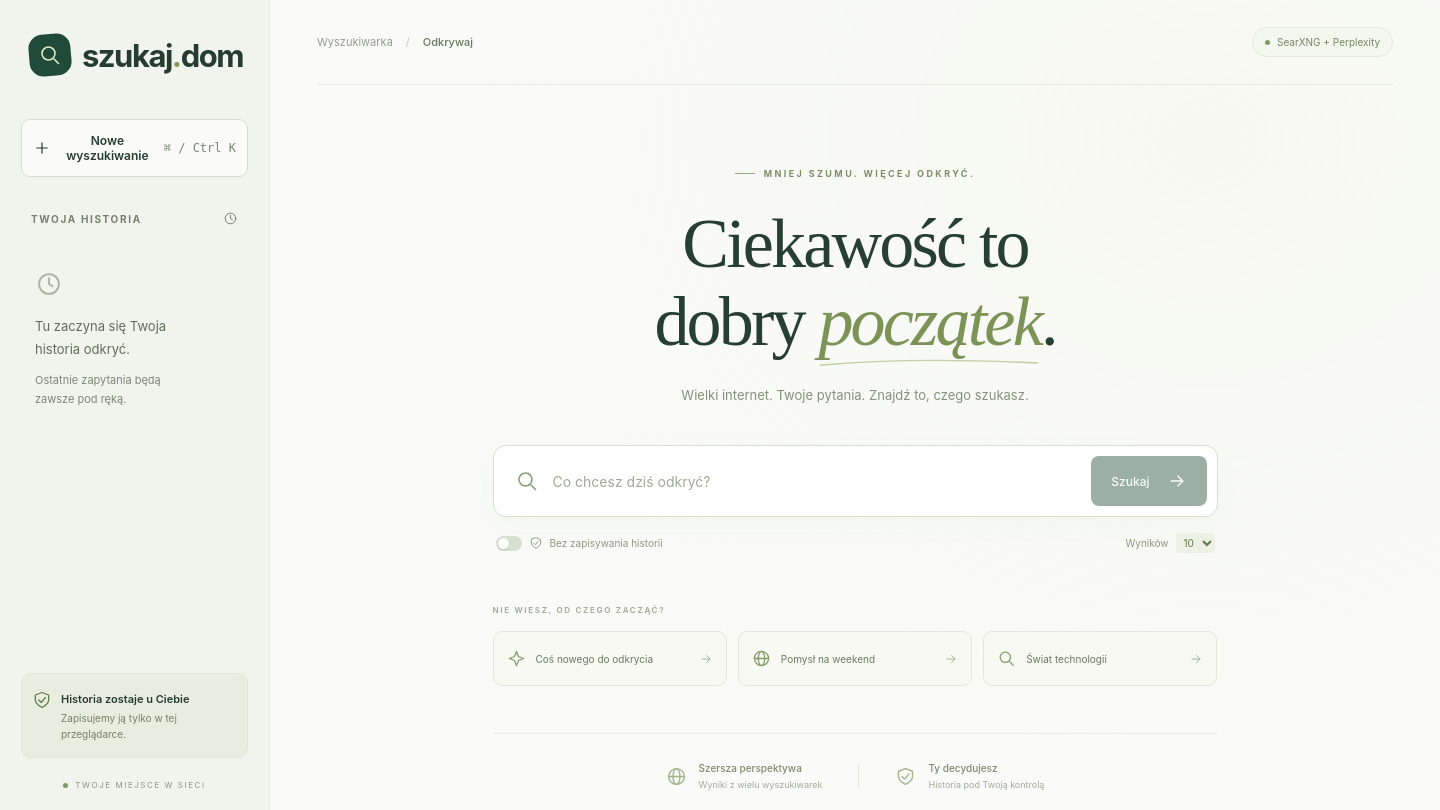
Scenario: search application › explains provider failure and offers retry
Step 1. Type "Pomorze" into the field named "Czego szukasz?" → {"x": 815, "y": 481}, box [552,465,1077,498]
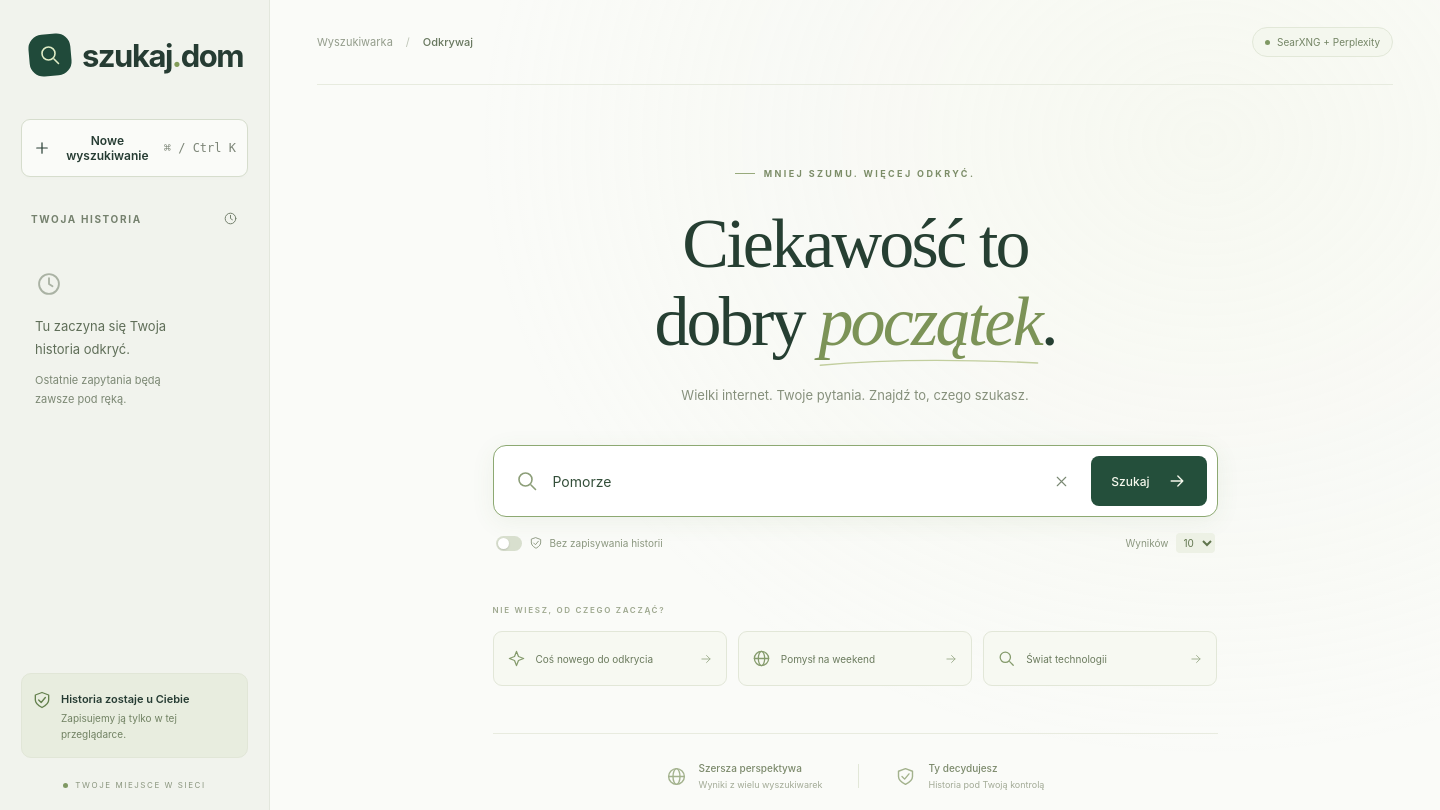
Step 2. Click the button "Szukaj" → {"x": 1149, "y": 481}, box [1091,456,1206,506]
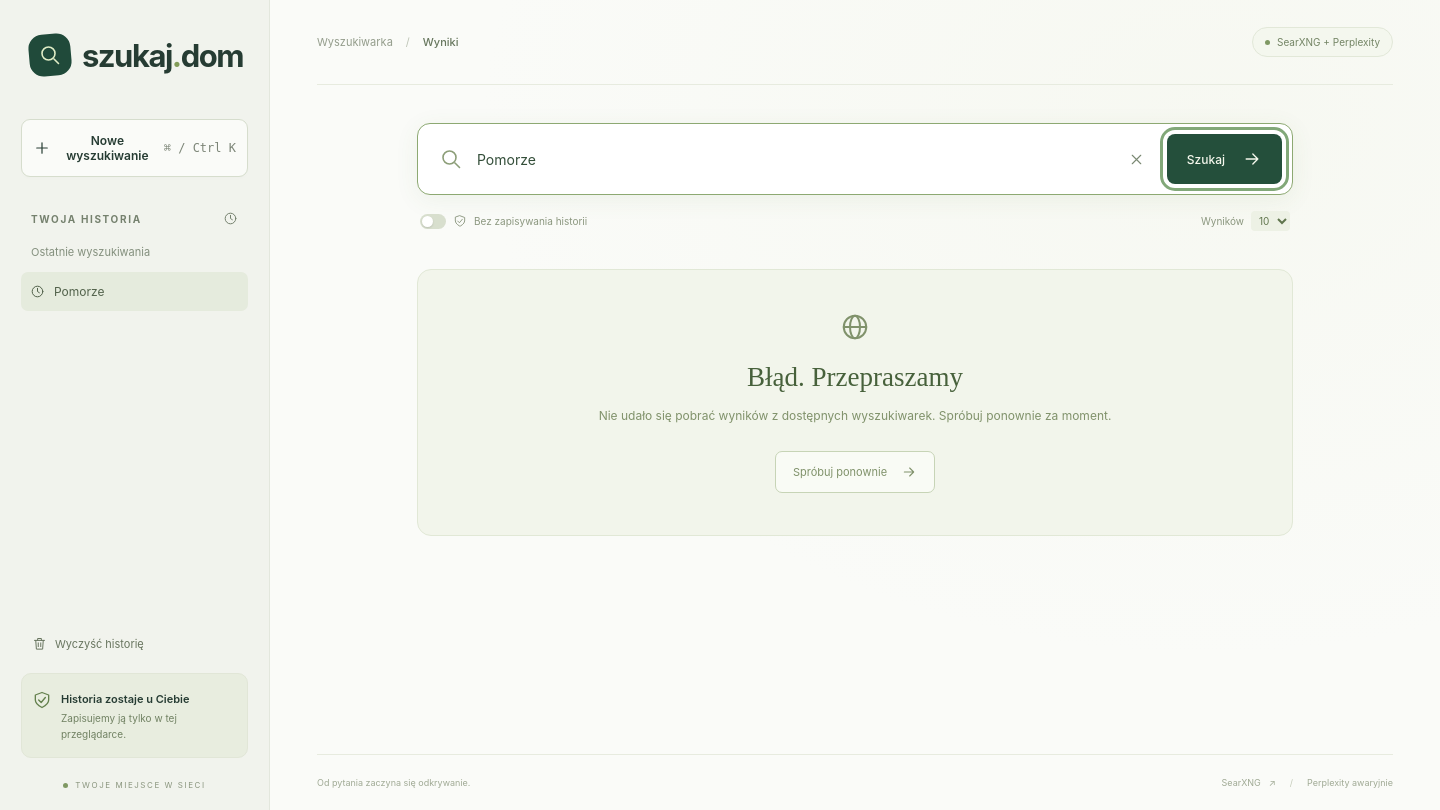
Check: the message is shown, box [417,269,1293,536]
Step 3. Click the button "Spróbuj ponownie" → {"x": 855, "y": 472}, box [775,451,935,493]
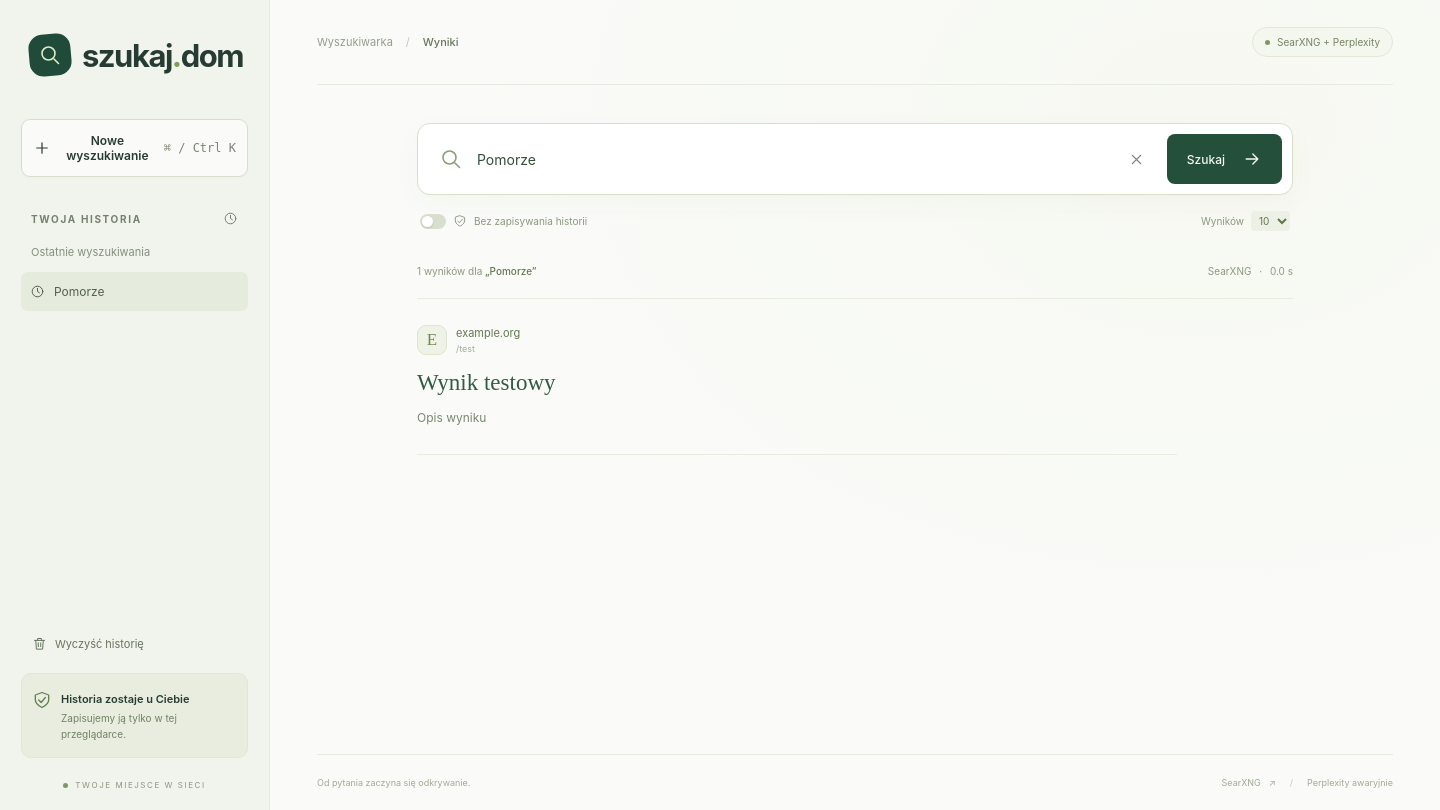
Check: the link "Wynik testowy" is shown, box [417,370,556,395]
